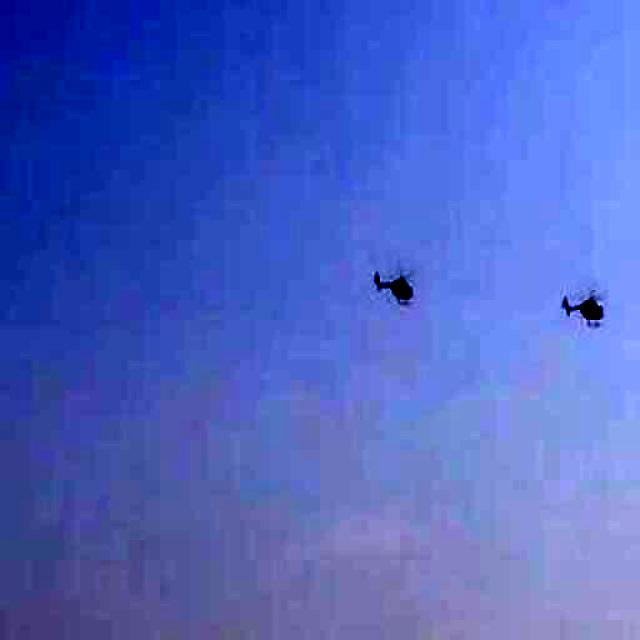drone: (360, 246, 426, 310), (548, 280, 619, 338)
